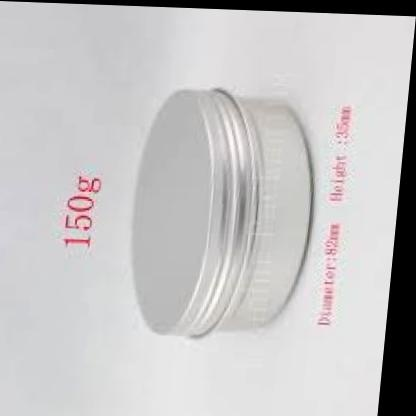trash: (0, 2, 414, 415), (131, 87, 315, 338), (133, 89, 312, 335)
